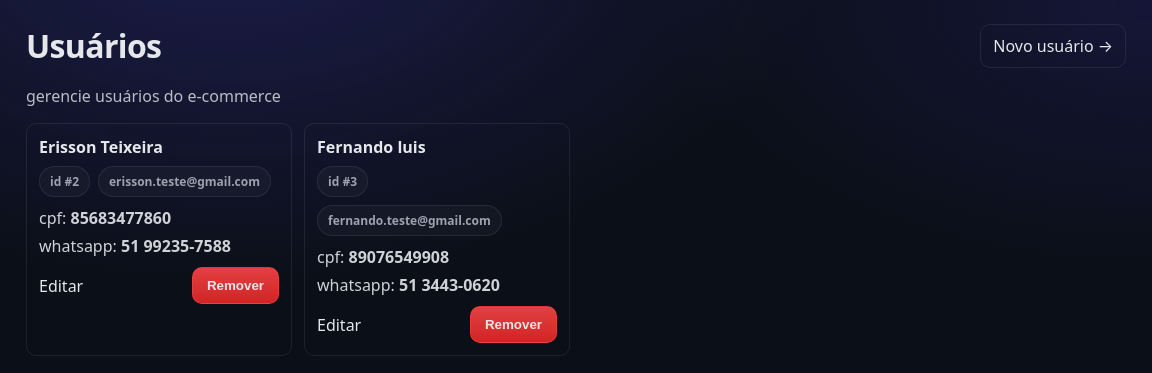
it: UsuariosPage › remove usuário com sucesso, tira da tela e mostra toast
Expected: the text "Erisson Teixeira" is shown, [39,136,163,158]
What coordinates should you click on to do the following:
click the button "Remover" below "51 99235-7588"
I would click on:
 (236, 286)
Its box is [192,267,279,304].
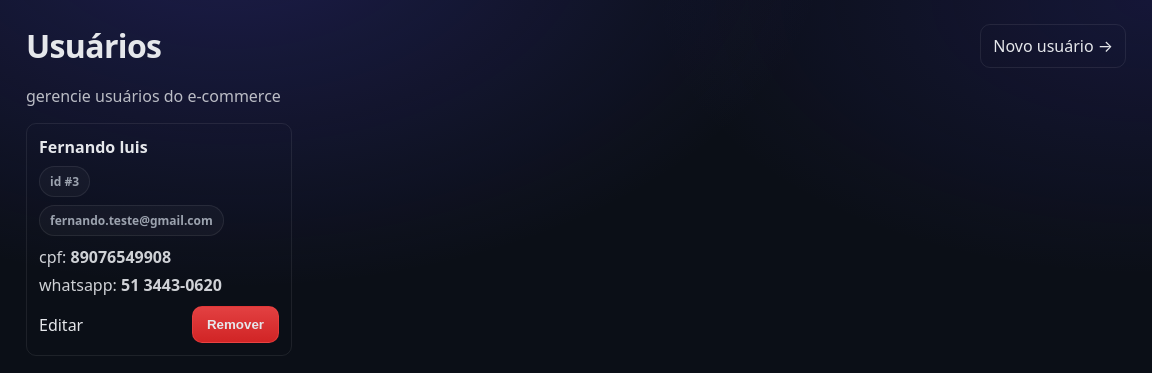
Expected: the text "Fernando luis" is shown, [39,136,148,158]
Now the text "Erisson Teixeira" is gone
